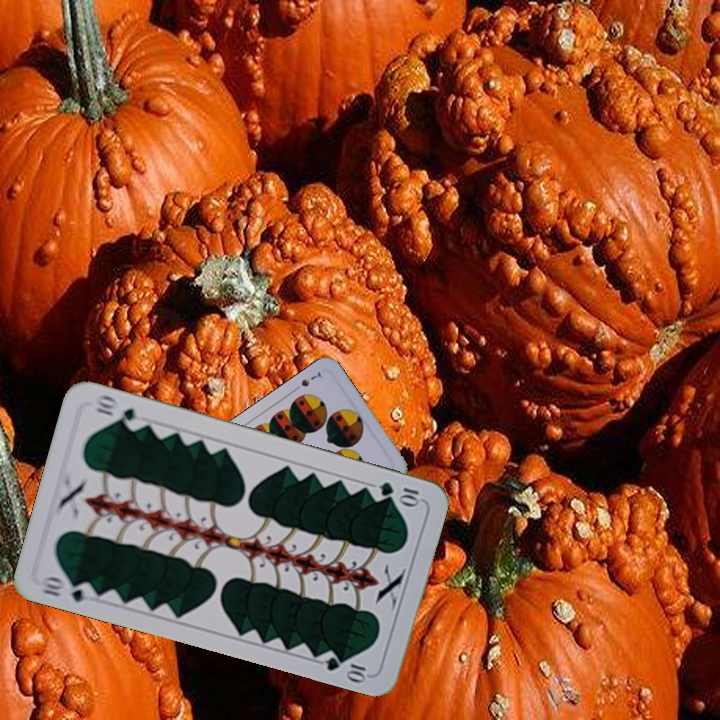G10: (37, 572, 97, 605), (375, 477, 424, 507)
S7: (289, 367, 325, 394)
